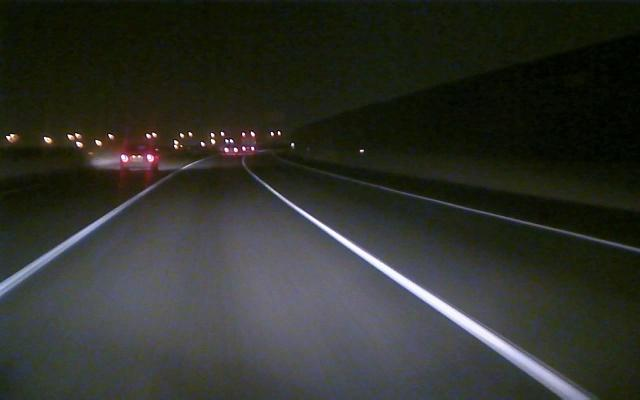lane: (260, 182, 597, 398), (2, 167, 187, 296), (341, 175, 640, 254)
